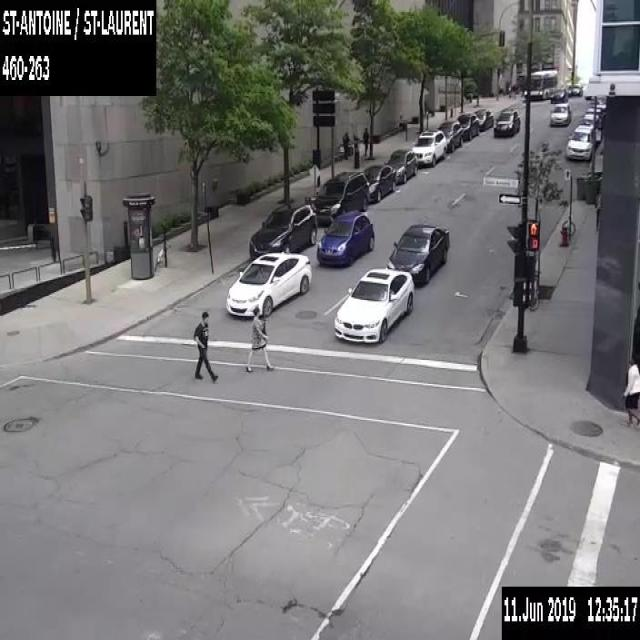bus: (523, 68, 557, 98)
pedestrian: (244, 304, 274, 373), (192, 311, 219, 384), (621, 358, 639, 430), (362, 125, 369, 156), (342, 131, 349, 159)
vehicle: (333, 266, 414, 344), (225, 251, 312, 315), (249, 200, 317, 260), (386, 222, 448, 284), (316, 209, 374, 266), (313, 170, 368, 224), (411, 128, 446, 165), (362, 163, 395, 201), (383, 148, 417, 182), (566, 123, 595, 159), (436, 119, 463, 151), (492, 108, 520, 136), (456, 112, 478, 140), (580, 113, 601, 141), (549, 102, 571, 124), (473, 108, 493, 130), (584, 106, 602, 128), (550, 86, 568, 102), (590, 94, 605, 110), (566, 82, 582, 96)
